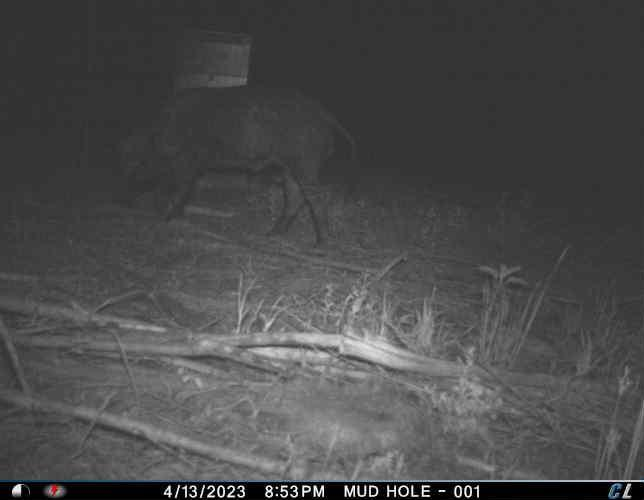Hog: (116, 83, 364, 251)
